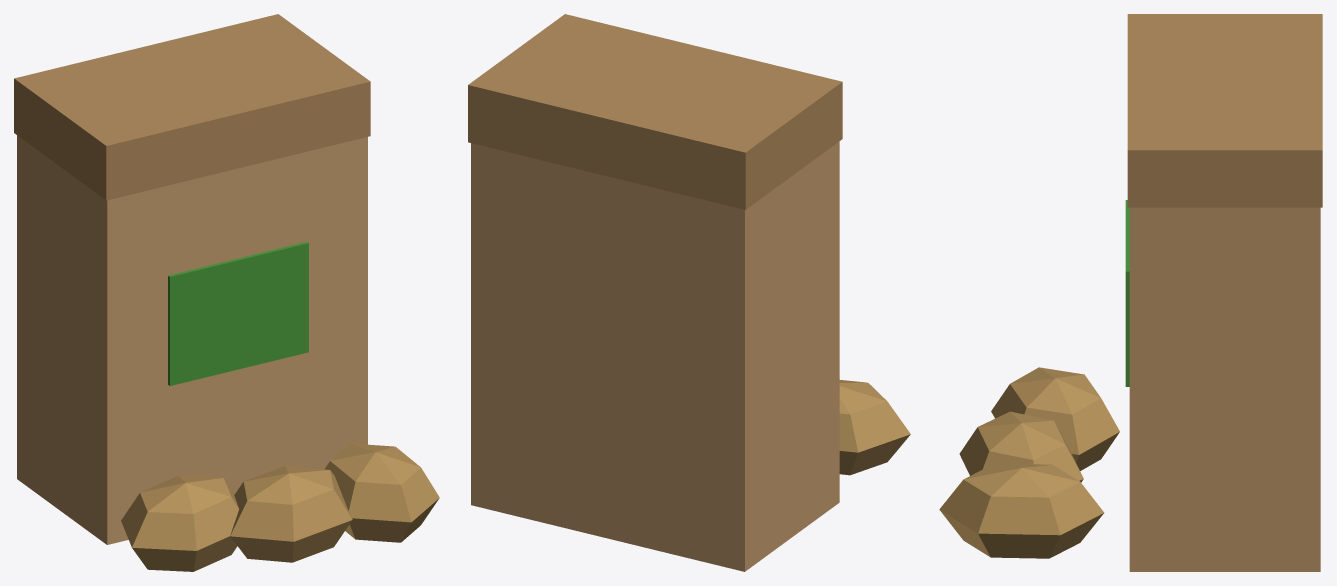
The model's file is g-potatoes.glb.
3 views of the same model, side by side, from view 1: azimuth 30°, elevation 25°; view 2: azimuth 150°, elevation 25°; view 3: azimuth 270°, elevation 25° (orthographic). The views are drawn at different scales.
Visible parts, largest first — view 1: g_potatoes; view 2: g_potatoes; view 3: g_potatoes.
Boxes of the visible parts, box(x1,y1,x2,y2) form: g_potatoes: box(14, 14, 439, 571); g_potatoes: box(468, 14, 910, 571); g_potatoes: box(939, 14, 1322, 571).
Size of the model in its own units: 0.1642 by 0.2225 by 0.1809.
